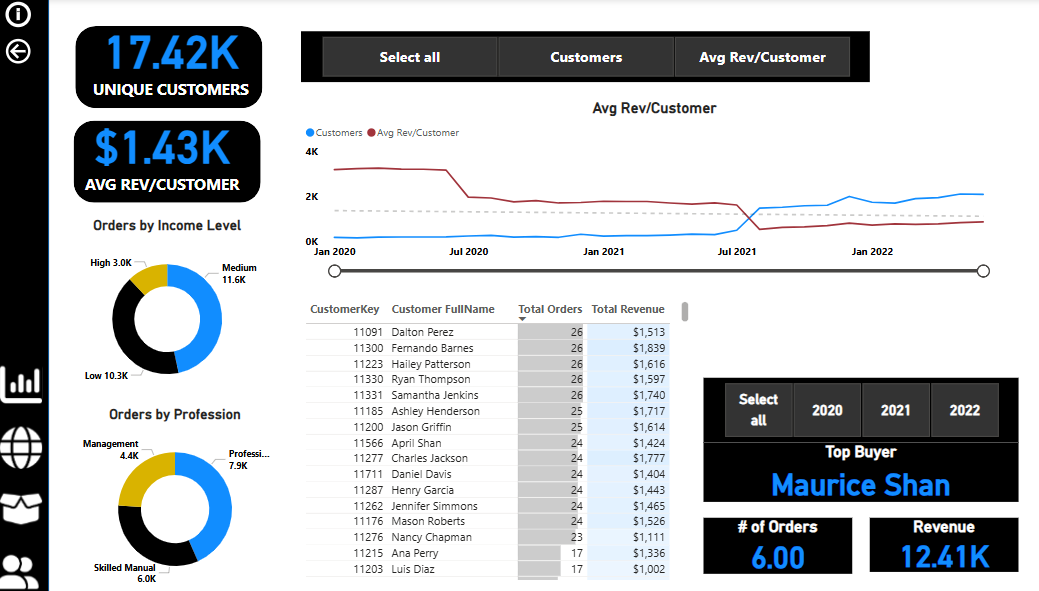

The dashboard page shown, as its layout file describes it:
{"tool":"powerbi","page":{"name":"Customers","canvas":[1280,720],"ordinal":3},"visuals":[{"type":"shape","box":[0,0,67.4,719.6],"z":0},{"type":"actionButton","box":[4.2,435.6,63.1,58.9],"z":0,"group":"g1"},{"type":"shape","box":[98.9,33.7,225.2,98.9],"z":1000},{"type":"actionButton","box":[4.2,585,63.1,58.9],"z":1000,"group":"g1"},{"type":"shape","box":[96.8,147.3,225.2,98.9],"z":2000},{"type":"actionButton","box":[0,660.8,63.1,58.9],"z":2000,"group":"g1"},{"type":"actionButton","box":[4.2,511.4,63.1,58.9],"z":3000,"group":"g1"},{"type":"card","fields":{"Values":["Measures Table.Average Revenue Per Customer"]},"box":[98.9,122.1,208.3,124.2],"z":3000},{"type":"lineChart","fields":{"Y":["Measures Table.Total Customers","Measures Table.Average Revenue Per Customer"],"Category":["Calendar Lookup.Date Hierarchy.Start of Year","Calendar Lookup.Date Hierarchy.Start of Month","Calendar Lookup.Date Hierarchy.Start of Week","Calendar Lookup.Date Hierarchy.Date"]},"box":[370.4,122.1,850.2,216.8],"z":4000},{"type":"card","fields":{"Values":["Measures Table.Total Customers"]},"box":[109.4,8.4,208.3,124.2],"z":5000},{"type":"donutChart","title":"Orders by Income Level","fields":{"Y":["Measures Table.Total Orders"],"Category":["Customer Lookup.Income Level"]},"box":[96.8,263,225.2,227.3],"z":6000},{"type":"donutChart","title":"Orders by Profession","fields":{"Y":["Measures Table.Total Orders"],"Category":["Customer Lookup.Occupation"]},"box":[98.9,490.3,239.9,229.4],"z":7000},{"type":"tableEx","fields":{"Values":["Customer Lookup.CustomerKey","Customer Lookup.Customer FullName","Measures Table.Total Orders","Measures Table.Total Revenue"]},"box":[370.4,359.9,471.4,345.1],"z":8000},{"type":"card","title":"Top Buyer","fields":{"Values":["Measures Table.Full Name (Customer Detail)"]},"box":[853.8,533.9,378.8,71.5],"z":9000},{"type":"card","title":"# of Orders","fields":{"Values":["Measures Table.Total Orders (Customer Detail)"]},"box":[853.8,624.4,178.9,67.3],"z":10000},{"type":"card","title":"Revenue","fields":{"Values":["Measures Table.Total Revenue (Customer Detail)"]},"box":[1053.7,624.4,178.9,65.2],"z":11000},{"type":"slicer","fields":{"Values":["Calendar Lookup.Year"]},"box":[853.8,456.1,378.8,77.9],"z":12000},{"type":"actionButton","box":[10.4,0,66.7,39.6],"z":13000},{"type":"actionButton","box":[10.4,43.8,56.2,39.6],"z":14000},{"type":"group","id":"g1","title":"Navigation Buttons","box":[0,435.6,67.3,284.1],"z":15000},{"type":"slicer","fields":{"Values":["Customer Metric Slection.Customer Metric Slection"]},"box":[370.4,40,683.9,61],"z":16000}]}

Visuals, with their boxes on the page's 1280x720 design canvas (x1, y1, x2, y2). These are canvas units, not pixel positions in the 1039x591 screenshot, which may show the page scaled, cropped or inside an application window:
shape: box=[0, 0, 67, 720]
actionButton: box=[4, 436, 67, 494]
shape: box=[99, 34, 324, 133]
actionButton: box=[4, 585, 67, 644]
shape: box=[97, 147, 322, 246]
actionButton: box=[0, 661, 63, 720]
actionButton: box=[4, 511, 67, 570]
card - Measures Table.Average Revenue Per Customer: box=[99, 122, 307, 246]
lineChart - Measures Table.Total Customers x Measures Table.Average Revenue Per Customer: box=[370, 122, 1221, 339]
card - Measures Table.Total Customers: box=[109, 8, 318, 133]
"Orders by Income Level" donutChart: box=[97, 263, 322, 490]
"Orders by Profession" donutChart: box=[99, 490, 339, 720]
tableEx - Customer Lookup.CustomerKey x Customer Lookup.Customer FullName: box=[370, 360, 842, 705]
"Top Buyer" card: box=[854, 534, 1233, 605]
"# of Orders" card: box=[854, 624, 1033, 692]
"Revenue" card: box=[1054, 624, 1233, 690]
slicer - Calendar Lookup.Year: box=[854, 456, 1233, 534]
actionButton: box=[10, 0, 77, 40]
actionButton: box=[10, 44, 67, 83]
"Navigation Buttons" group: box=[0, 436, 67, 720]
slicer - Customer Metric Slection.Customer Metric Slection: box=[370, 40, 1054, 101]
